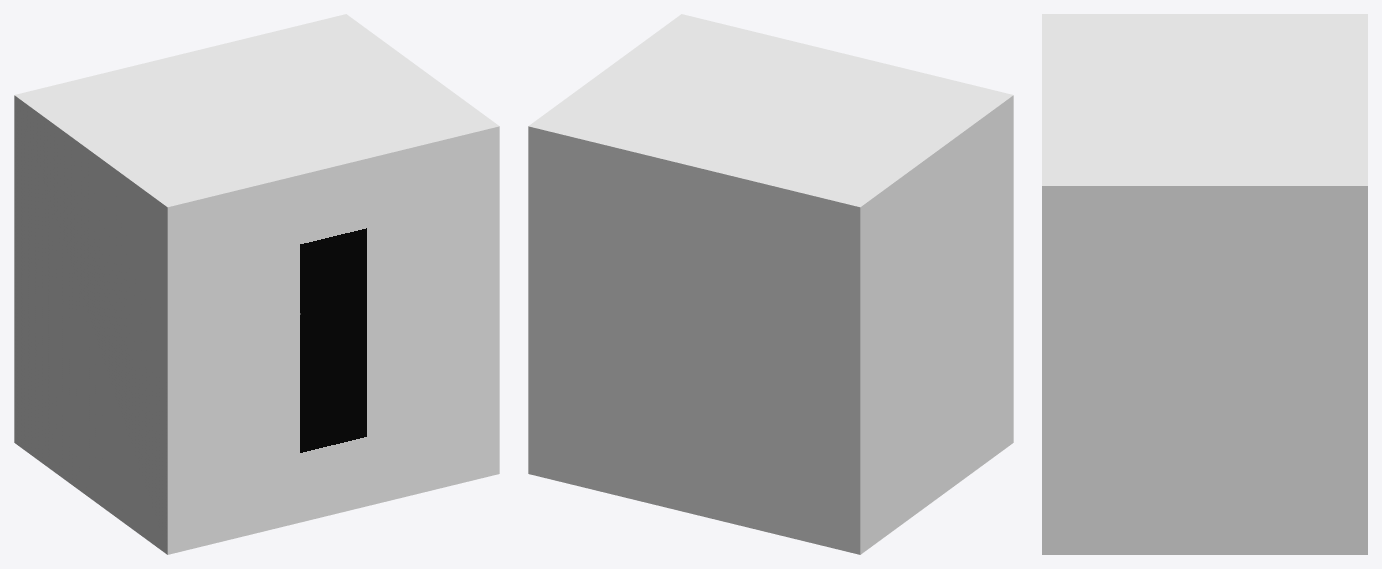
Rendered from Head.dae.
3 renders of one model, left to right at view 1: azimuth 30°, elevation 25°; view 2: azimuth 150°, elevation 25°; view 3: azimuth 270°, elevation 25°, orthographic. The views are drawn at different scales.
Parts seen in each view (by area): view 1: Head; view 2: Head; view 3: Head.
Boxes of the visible parts, x1,y1,x2,y2 form: Head: (14,14,499,554); Head: (528,14,1013,554); Head: (1042,14,1367,554).
Size of the model in its own units: 5 by 5 by 4.
1 material, 1 textured.
